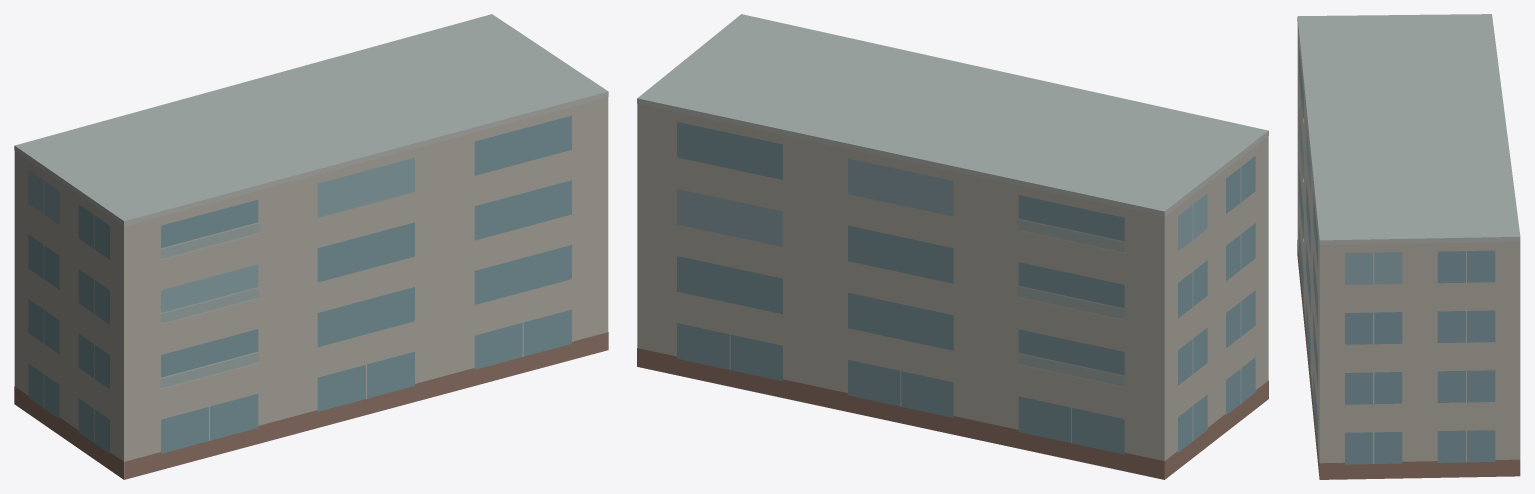
Rendered from survey-upis-32994809.glb.
3 views of the same model, side by side, from view 1: azimuth 30°, elevation 25°; view 2: azimuth 150°, elevation 25°; view 3: azimuth 270°, elevation 25° (orthographic). The views are drawn at different scales.
Visible parts, largest first — view 1: survey-upis-32994809.tmp; view 2: survey-upis-32994809.tmp; view 3: survey-upis-32994809.tmp.
Boxes of the visible parts, <box> form: survey-upis-32994809.tmp: <box>14,14,608,479</box>; survey-upis-32994809.tmp: <box>637,14,1268,479</box>; survey-upis-32994809.tmp: <box>1297,14,1520,479</box>.
Size of the model in its own units: 24.74 by 12.2 by 10.3.
